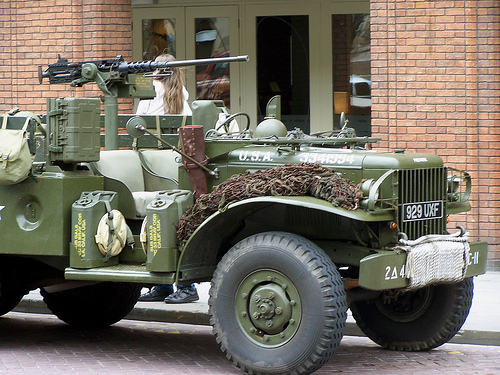rifle: (38, 48, 264, 109)
